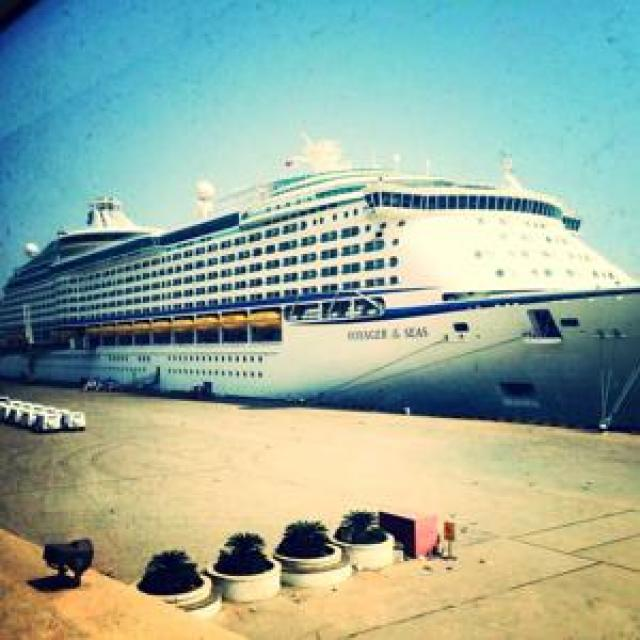passenger ship: (1, 164, 640, 431)
